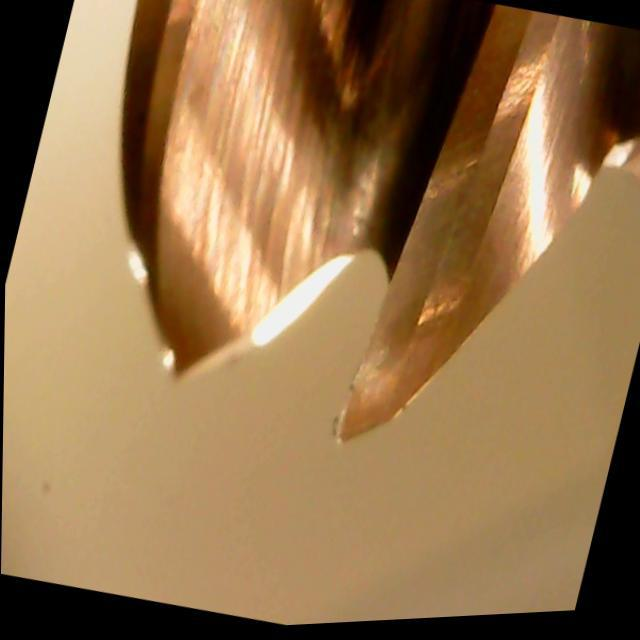Tool-wear-class-0: (323, 124, 518, 481)
